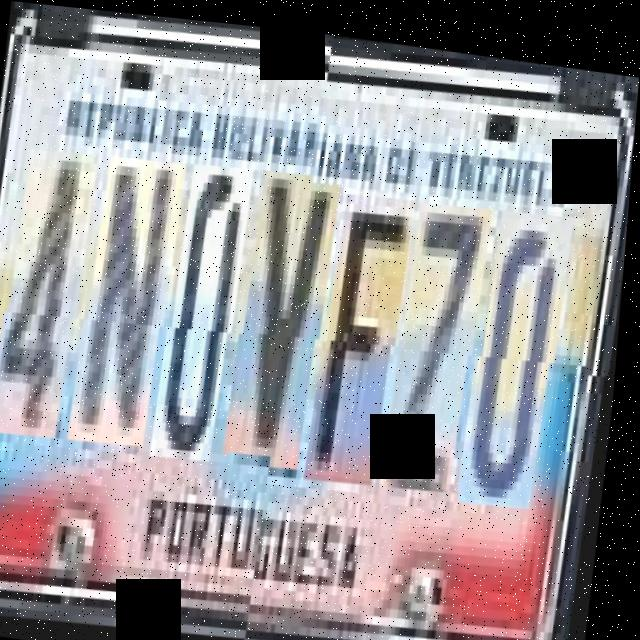0: (471, 192, 578, 498), (162, 158, 257, 462)
4: (1, 144, 101, 441)
F: (318, 179, 418, 476)
N: (80, 150, 189, 449)
V: (235, 163, 344, 461)
Z: (393, 185, 498, 482)
